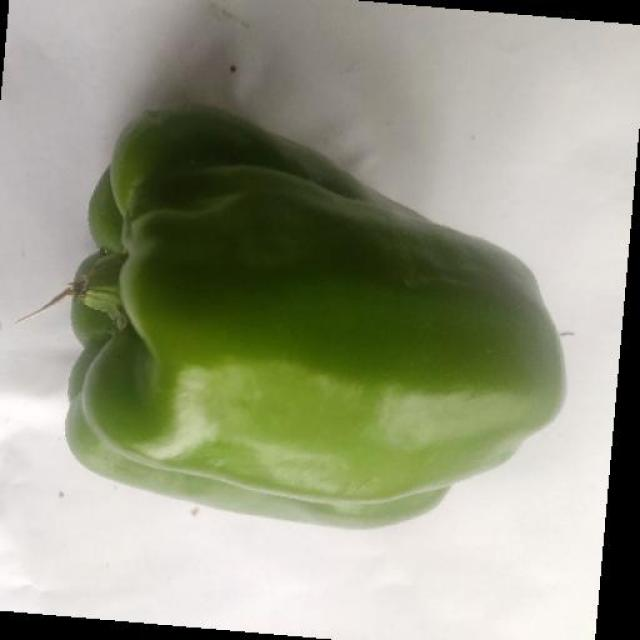Fresh_Capsicum: (125, 168, 474, 505)
